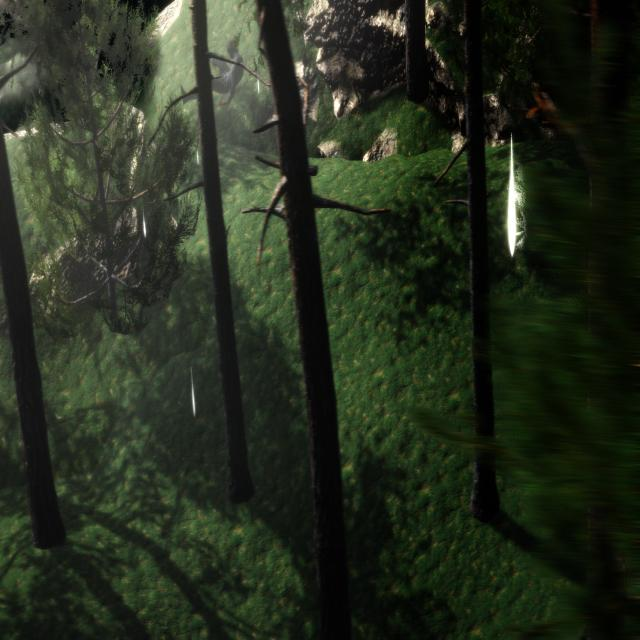Human: (176, 36, 246, 109)
